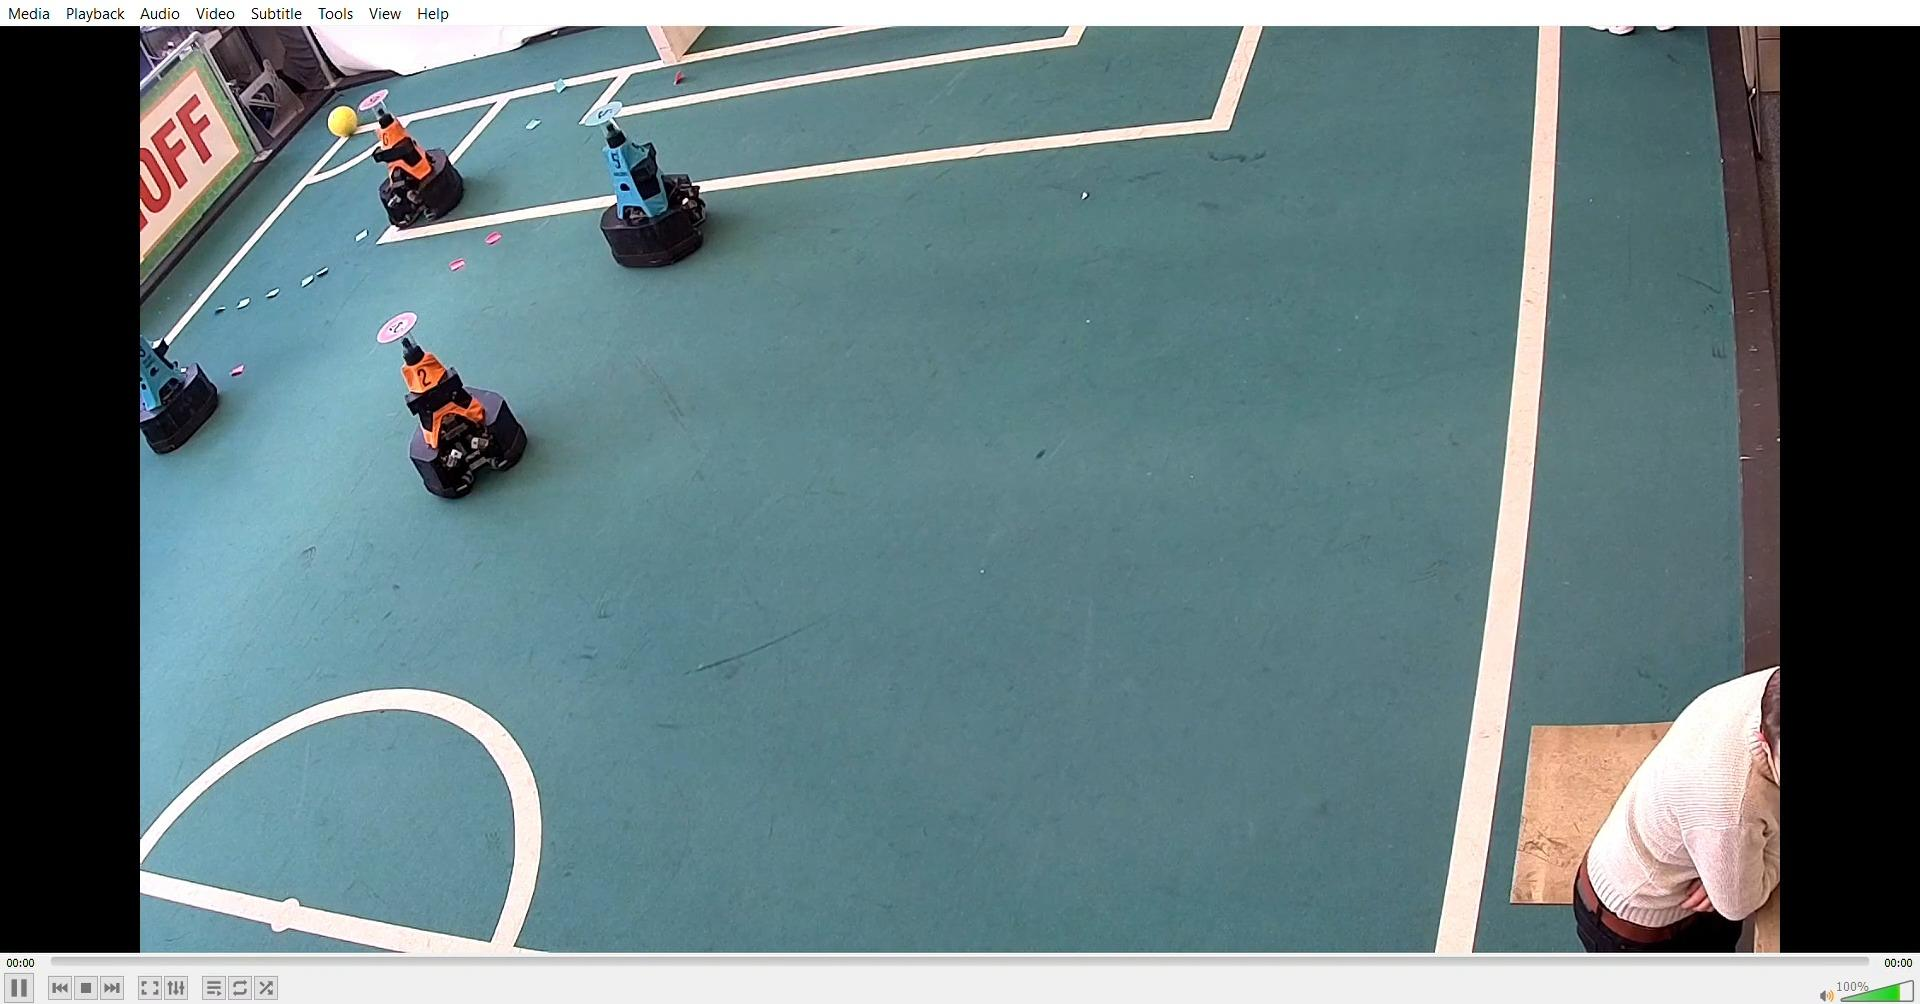Ball: (330, 99, 377, 138)
Team_Blue: (584, 93, 720, 269), (141, 311, 241, 451)
Team_Red: (376, 301, 532, 500), (359, 85, 476, 236)
